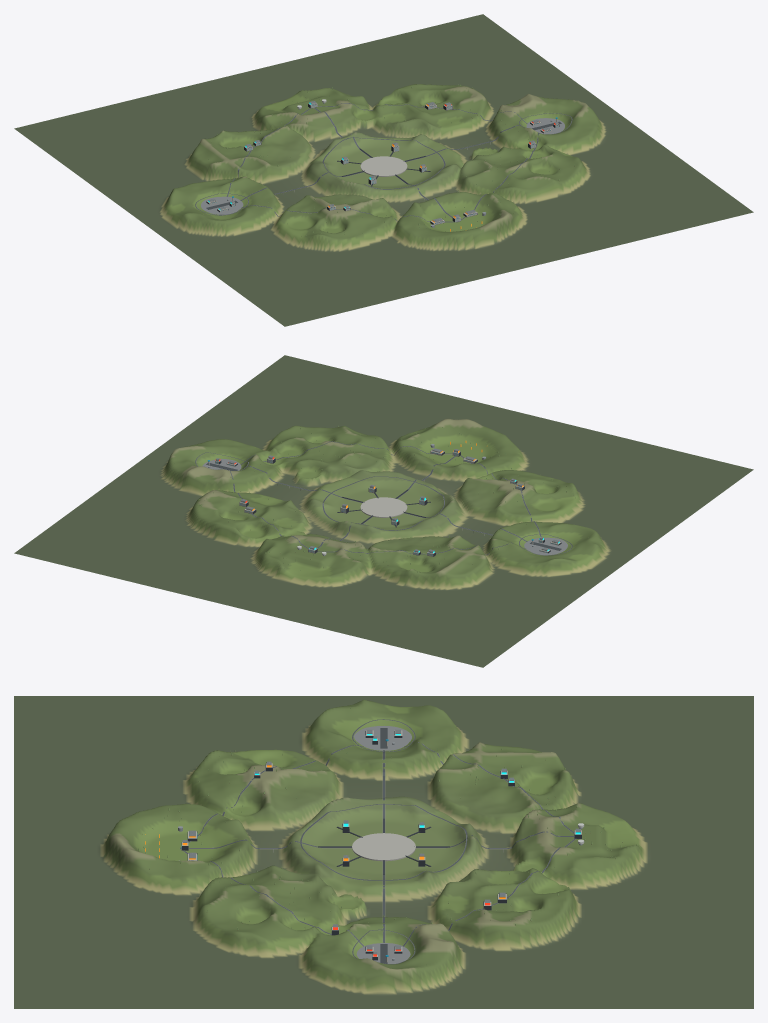
The model's file is starter-coast-world-authored-v2.fbx.
3 views of the same model, one above another, from view 1: azimuth 30°, elevation 25°; view 2: azimuth 150°, elevation 25°; view 3: azimuth 270°, elevation 25° (orthographic). The views are drawn at different scales.
Visible parts, largest first — view 1: Starter_Coast_LOD0__Terrain surface__batch, Starter_Coast_LOD0__Road surface__batch, Starter_Coast_LOD0__Bunker concrete__batch, Starter_Coast_LOD0__Airbase deck__batch, Starter_Coast_LOD0__Graphite structure__batch; view 2: Starter_Coast_LOD0__Terrain surface__batch, Starter_Coast_LOD0__Road surface__batch, Starter_Coast_LOD0__Bunker concrete__batch, Starter_Coast_LOD0__Airbase deck__batch; view 3: Starter_Coast_LOD0__Terrain surface__batch, Starter_Coast_LOD0__Road surface__batch, Starter_Coast_LOD0__Bunker concrete__batch, Starter_Coast_LOD0__Airbase deck__batch, Starter_Coast_LOD0__Graphite structure__batch, Starter_Coast_LOD0__Road shoulder__batch, Starter_Coast_LOD0__City roof__batch.
Boxes of the visible parts, x1,y1,x2,y2 form: Starter_Coast_LOD0__Terrain surface__batch: (14, 14, 753, 326); Starter_Coast_LOD0__Road surface__batch: (195, 103, 572, 222); Starter_Coast_LOD0__Bunker concrete__batch: (207, 102, 559, 224); Starter_Coast_LOD0__Airbase deck__batch: (201, 118, 564, 214); Starter_Coast_LOD0__Graphite structure__batch: (206, 104, 559, 224); Starter_Coast_LOD0__Terrain surface__batch: (14, 355, 753, 667); Starter_Coast_LOD0__Road surface__batch: (195, 441, 572, 555); Starter_Coast_LOD0__Bunker concrete__batch: (208, 449, 560, 556); Starter_Coast_LOD0__Airbase deck__batch: (202, 459, 567, 555); Starter_Coast_LOD0__Terrain surface__batch: (14, 696, 753, 1008); Starter_Coast_LOD0__Road surface__batch: (180, 719, 575, 964); Starter_Coast_LOD0__Bunker concrete__batch: (182, 730, 581, 962); Starter_Coast_LOD0__Airbase deck__batch: (354, 726, 411, 963); Starter_Coast_LOD0__Graphite structure__batch: (181, 731, 581, 960); Starter_Coast_LOD0__Road shoulder__batch: (181, 720, 575, 963); Starter_Coast_LOD0__City roof__batch: (182, 729, 580, 954).
Size of the model in its own units: 8000 by 317 by 8000.
